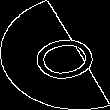O_NE: (11, 25, 99, 85)
